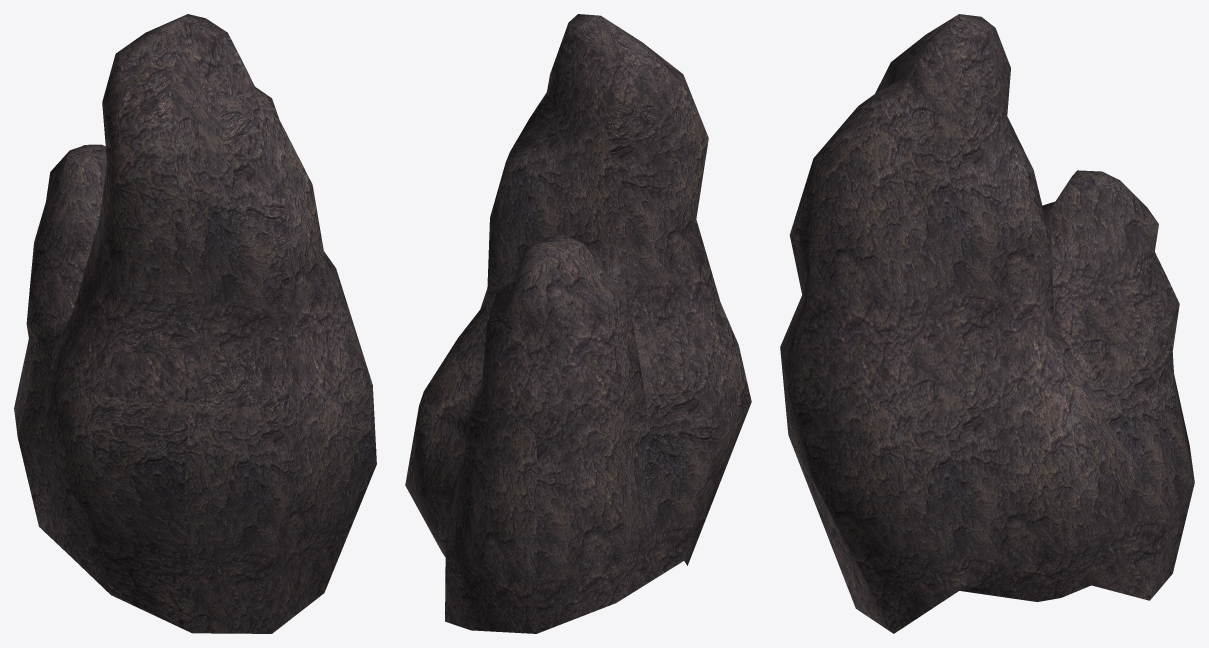
The model's file is rock_pillar_00.fbx.
3 renders of one model, left to right at view 1: azimuth 30°, elevation 25°; view 2: azimuth 150°, elevation 25°; view 3: azimuth 270°, elevation 25°, orthographic. The views are drawn at different scales.
Visible parts, largest first — view 1: rock_pillar_00; view 2: rock_pillar_00; view 3: rock_pillar_00.
Boxes of the visible parts, left/top/right/bottom form: rock_pillar_00: left=14, top=14, right=376, bottom=633; rock_pillar_00: left=405, top=14, right=751, bottom=633; rock_pillar_00: left=780, top=14, right=1194, bottom=633.
Bounding box in the file's own units: 24.72 × 47.44 × 30.91.
